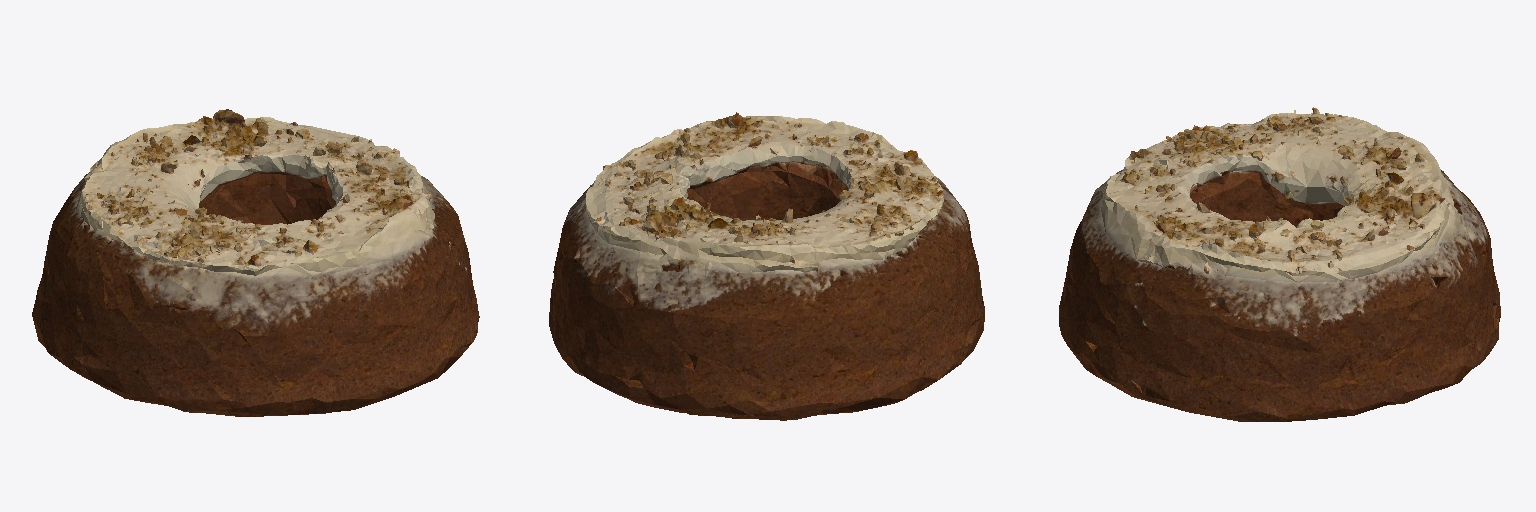
3 views of the same model, side by side, from view 1: azimuth 30°, elevation 25°; view 2: azimuth 150°, elevation 25°; view 3: azimuth 270°, elevation 25° (orthographic).
Visible parts, largest first — view 1: carrot_cake_carrot_cake_Model_3.001; view 2: carrot_cake_carrot_cake_Model_3.001; view 3: carrot_cake_carrot_cake_Model_3.001.
Boxes of the visible parts, x1,y1,x2,y2 form: carrot_cake_carrot_cake_Model_3.001: [32, 109, 479, 416]; carrot_cake_carrot_cake_Model_3.001: [549, 112, 984, 420]; carrot_cake_carrot_cake_Model_3.001: [1059, 107, 1500, 421].
Size of the model in its own units: 0.2254 by 0.0976 by 0.2254.
1 materials, 1 textured.